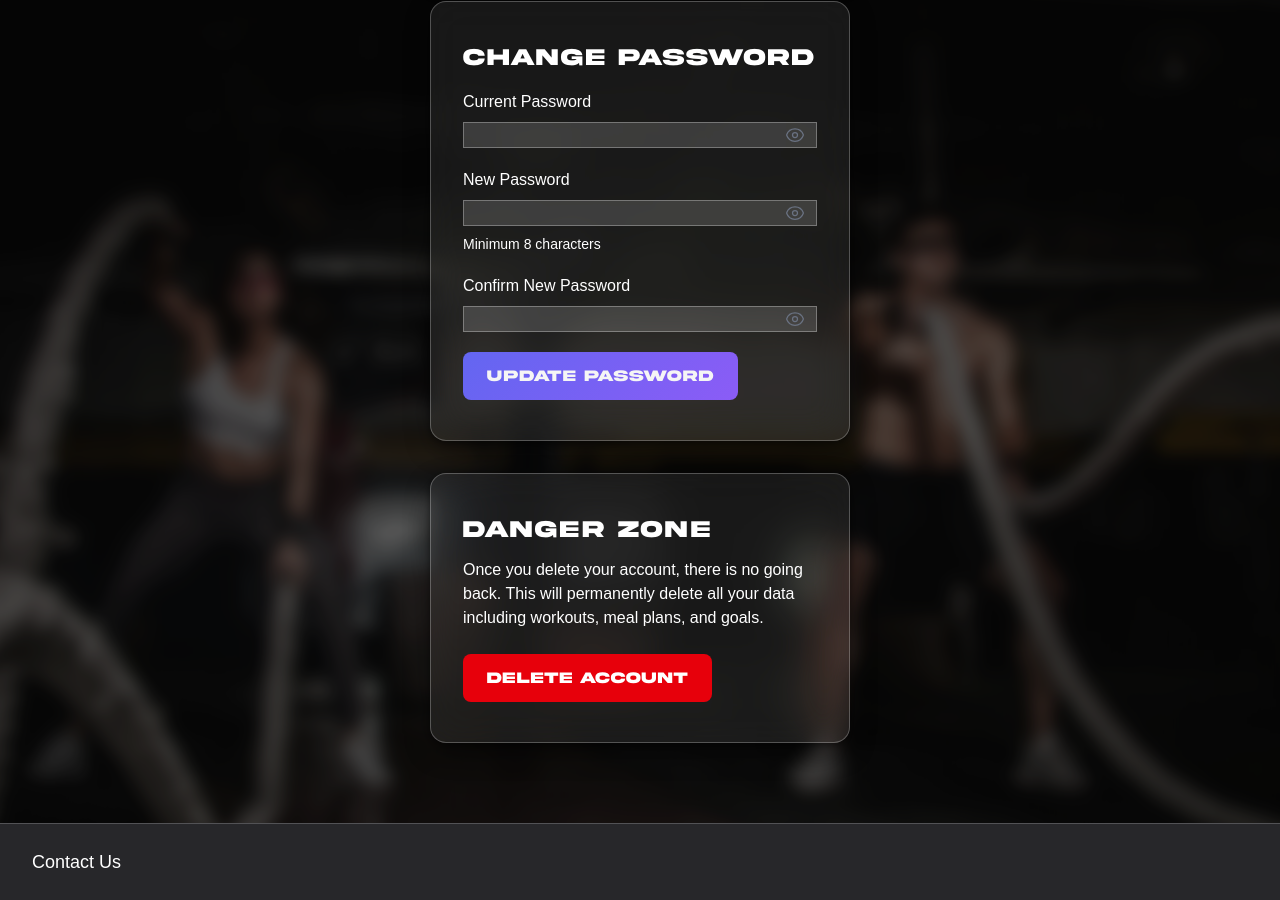
Test: Settings Page › disables delete forever button until requirements are met
(page scrolled)
// Open modal
Click the button "Delete Account" at (587, 678), box [463,654,712,702]
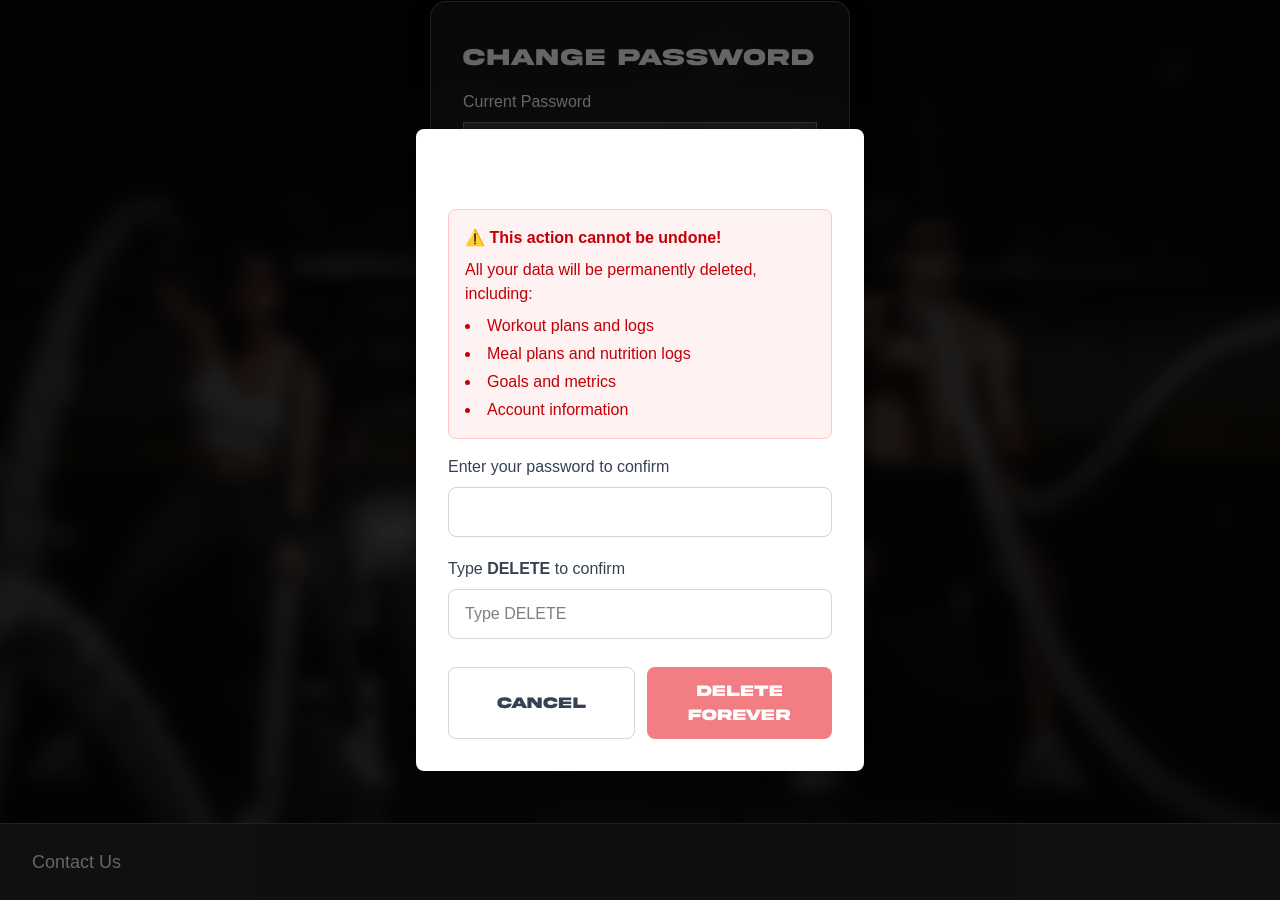
Expected: the button "Delete Forever" is disabled, [647,667,832,739]
// Enter password
Type "testpassword" into the password field labelled "Enter your password to confirm" at (640, 512), box [448,487,832,537]
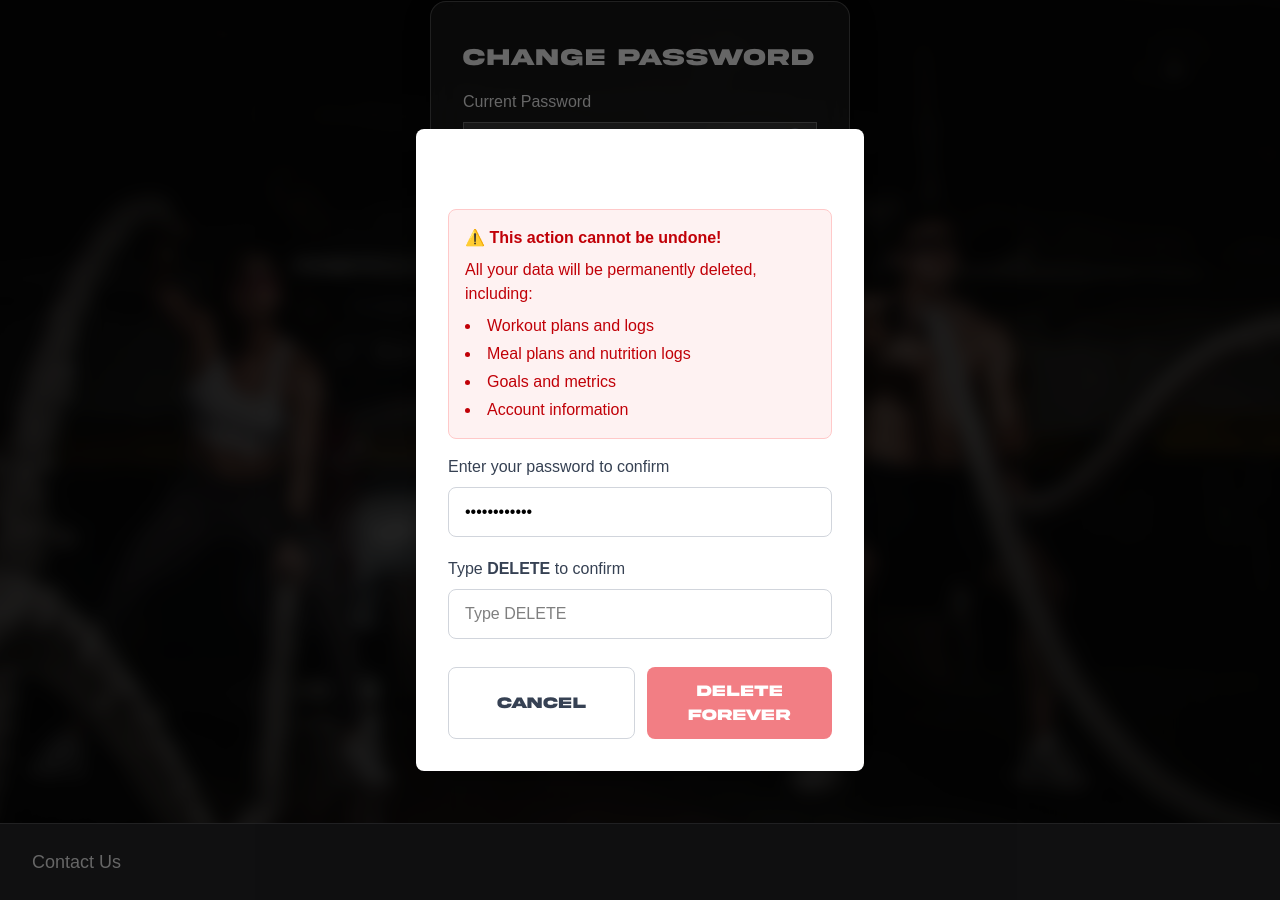
Expected: the button "Delete Forever" is disabled, [647,667,832,739]
// Type DELETE
Type "DELETE" into the field with placeholder "Type DELETE" at (640, 614), box [448,589,832,639]
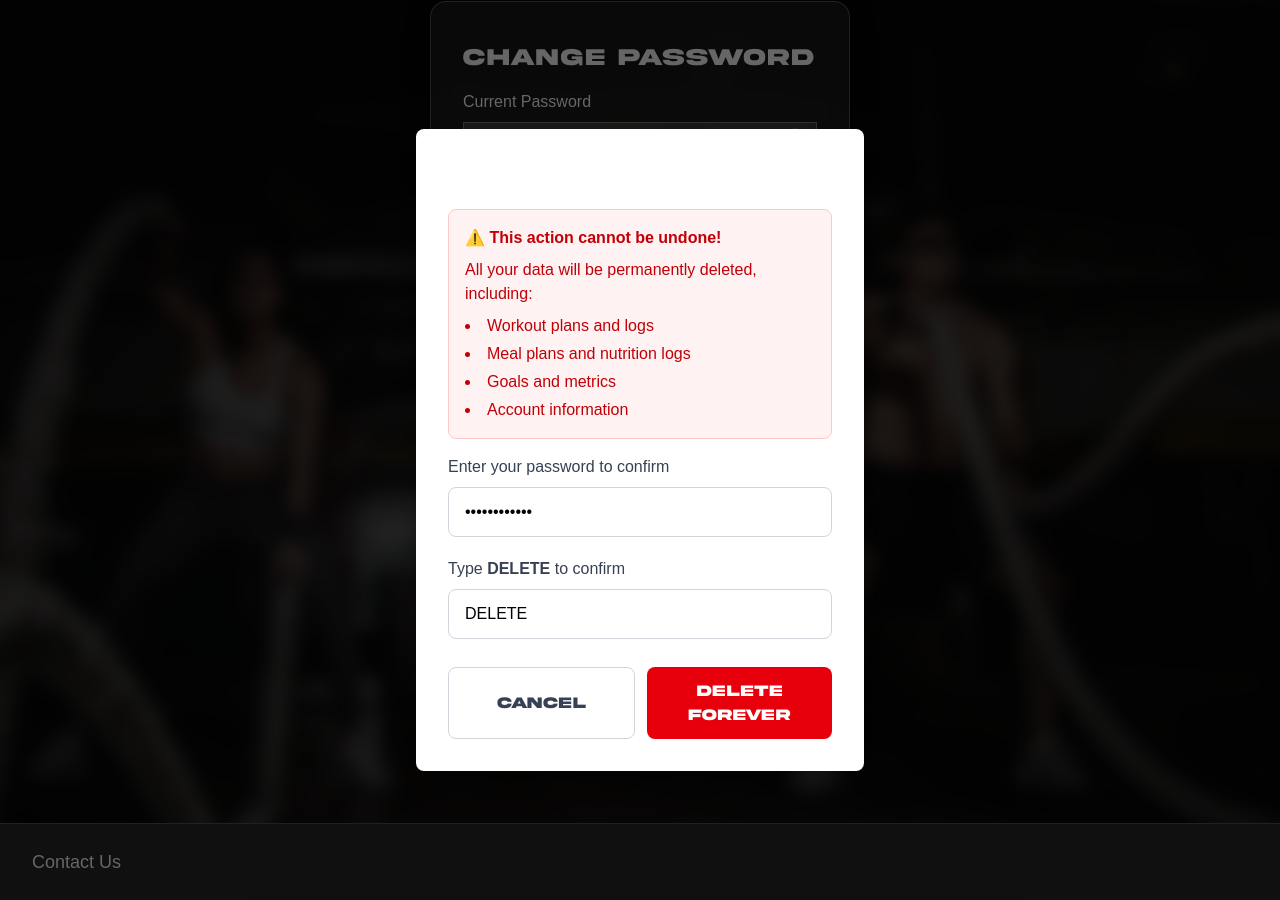
Expected: the button "Delete Forever" is enabled, [647,667,832,739]
